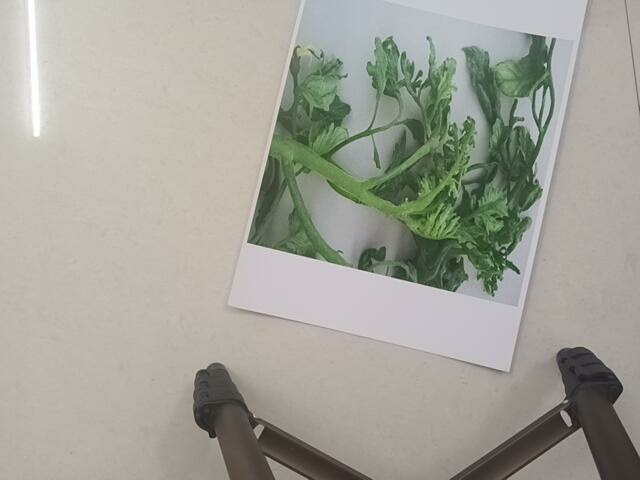Tomamto_Mosaic_virus: (261, 31, 527, 295)
